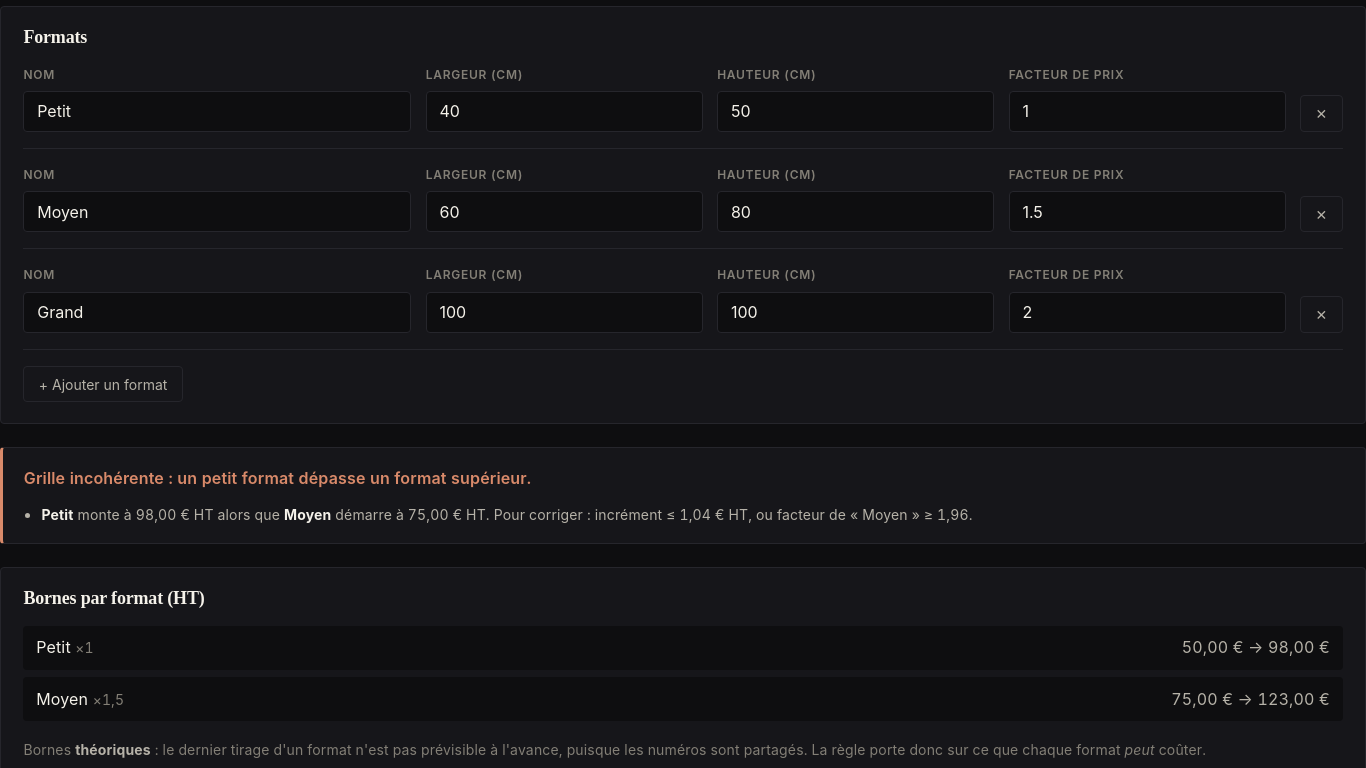
Test: admin/gun-art/simulateur-prix.vue › re-simulates when a format is added, and refuses to drop the last one
(page scrolled)
Click the button with class "add": point(103, 384) x1=23 y1=366 x2=183 y2=402
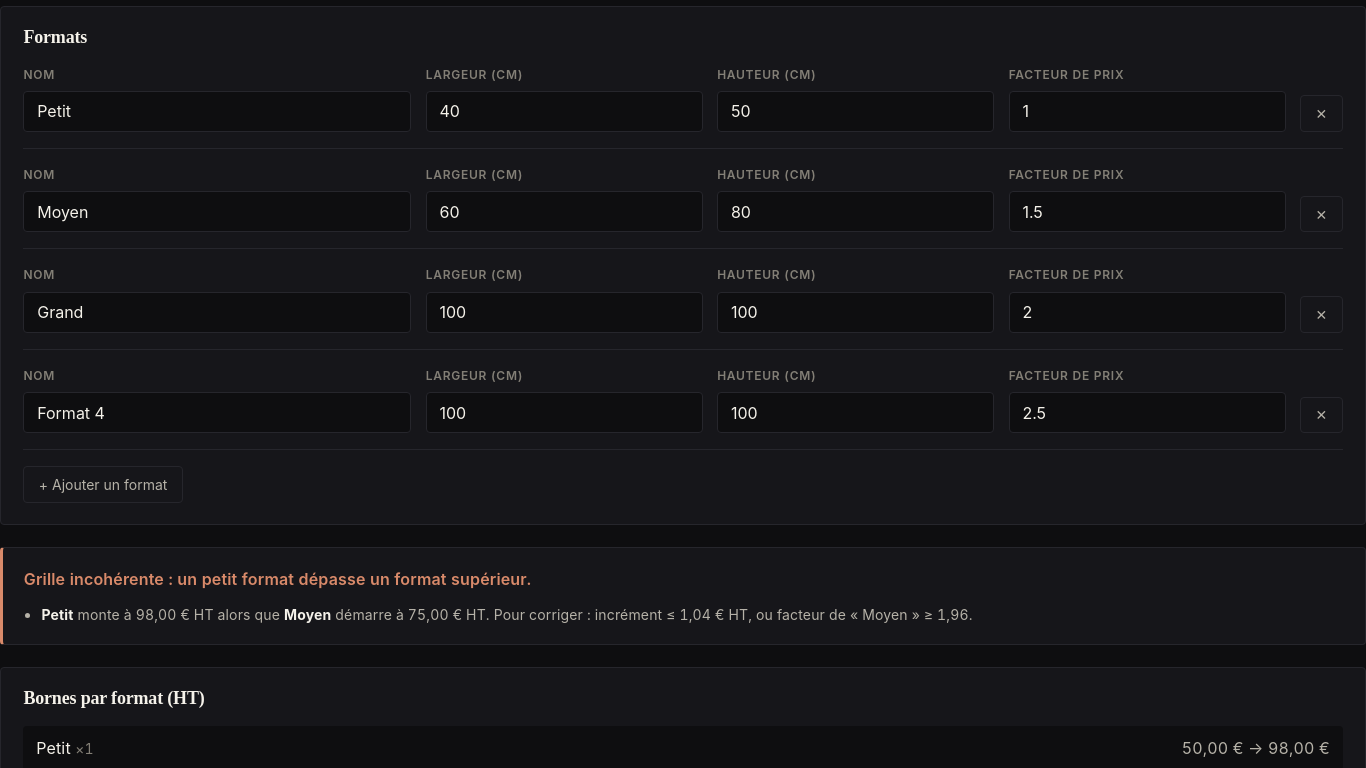
Check: the 1st button with class "remove" is enabled, box x1=1300 y1=96 x2=1343 y2=132
Check: the number of buttons with class "remove" is 4, box x1=1300 y1=96 x2=1343 y2=132; x1=1300 y1=196 x2=1343 y2=232; x1=1300 y1=296 x2=1343 y2=333; x1=1300 y1=397 x2=1343 y2=433
